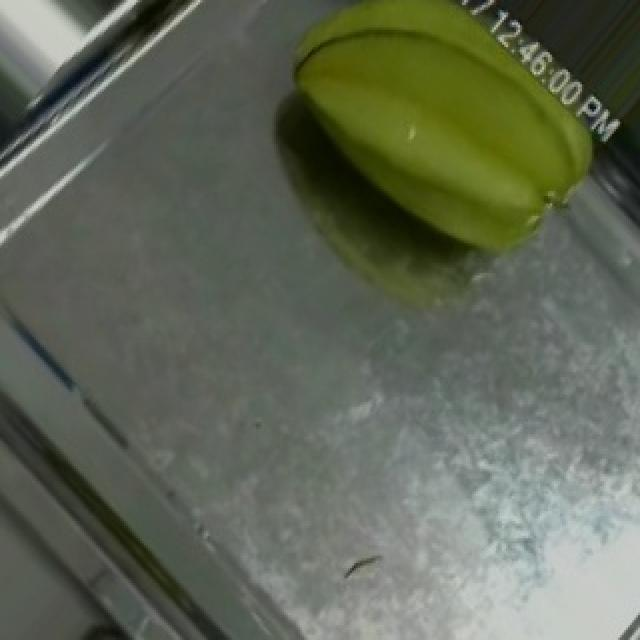fruit: (258, 3, 634, 300)
